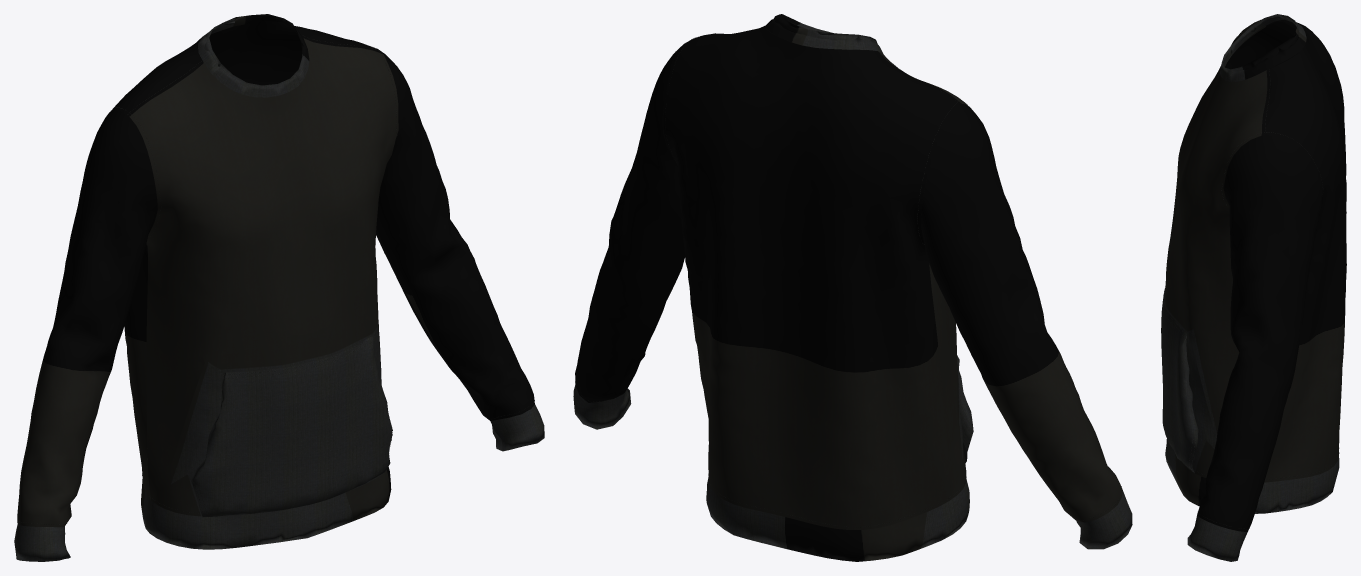
The model's file is SWEATSHIRT2.gltf.
3 views of the same model, side by side, from view 1: azimuth 30°, elevation 25°; view 2: azimuth 150°, elevation 25°; view 3: azimuth 270°, elevation 25° (orthographic). The views are drawn at different scales.
Visible parts, largest first — view 1: Pattern_1301135, Pattern_1302524, Pattern_2901679, Pattern_1302525, Pattern_1299746, Pattern_1303223, Pattern_1303292 (×2), Pattern_1303224, Pattern_1303225; view 2: Pattern_1299746, Pattern_1302524, Pattern_1302525, Pattern_1303223, Pattern_1301135, Pattern_1303292 (×2), Pattern_1303224, Pattern_1303225, Pattern_2901679; view 3: Pattern_1302525, Pattern_1299746, Pattern_1301135, Pattern_2901679, Pattern_1303223, Pattern_1303292 (×2), Pattern_1303225, Pattern_1302524.
Part boxes in pixels (bbox=[...]): Pattern_1301135: bbox=[129, 38, 398, 516]; Pattern_1302524: bbox=[17, 110, 157, 527]; Pattern_2901679: bbox=[191, 336, 392, 517]; Pattern_1302525: bbox=[376, 48, 534, 420]; Pattern_1299746: bbox=[110, 21, 382, 499]; Pattern_1303223: bbox=[141, 466, 391, 549]; Pattern_1303292 (×2): bbox=[198, 14, 309, 97]; Pattern_1303224: bbox=[14, 524, 70, 561]; Pattern_1303225: bbox=[490, 404, 544, 451]; Pattern_1299746: bbox=[663, 25, 961, 529]; Pattern_1302524: bbox=[921, 104, 1122, 522]; Pattern_1302525: bbox=[575, 42, 686, 402]; Pattern_1303223: bbox=[706, 477, 969, 561]; Pattern_1301135: bbox=[766, 28, 970, 500]; Pattern_1303292 (×2): bbox=[766, 14, 883, 53]; Pattern_1303224: bbox=[1076, 489, 1132, 549]; Pattern_1303225: bbox=[573, 384, 631, 429]; Pattern_2901679: bbox=[957, 355, 973, 463]; Pattern_1302525: bbox=[1197, 135, 1322, 531]; Pattern_1299746: bbox=[1261, 19, 1346, 482]; Pattern_1301135: bbox=[1164, 20, 1267, 477]; Pattern_2901679: bbox=[1161, 288, 1198, 472]; Pattern_1303223: bbox=[1165, 439, 1339, 513]; Pattern_1303292 (×2): bbox=[1219, 14, 1306, 82]; Pattern_1303225: bbox=[1187, 514, 1247, 561]; Pattern_1302524: bbox=[1225, 21, 1297, 69].
Bounding box in the file's own units: 0.8312 × 0.7292 × 0.278.
9 materials, 9 textured.
